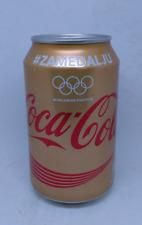metal: (24, 35, 119, 204)
